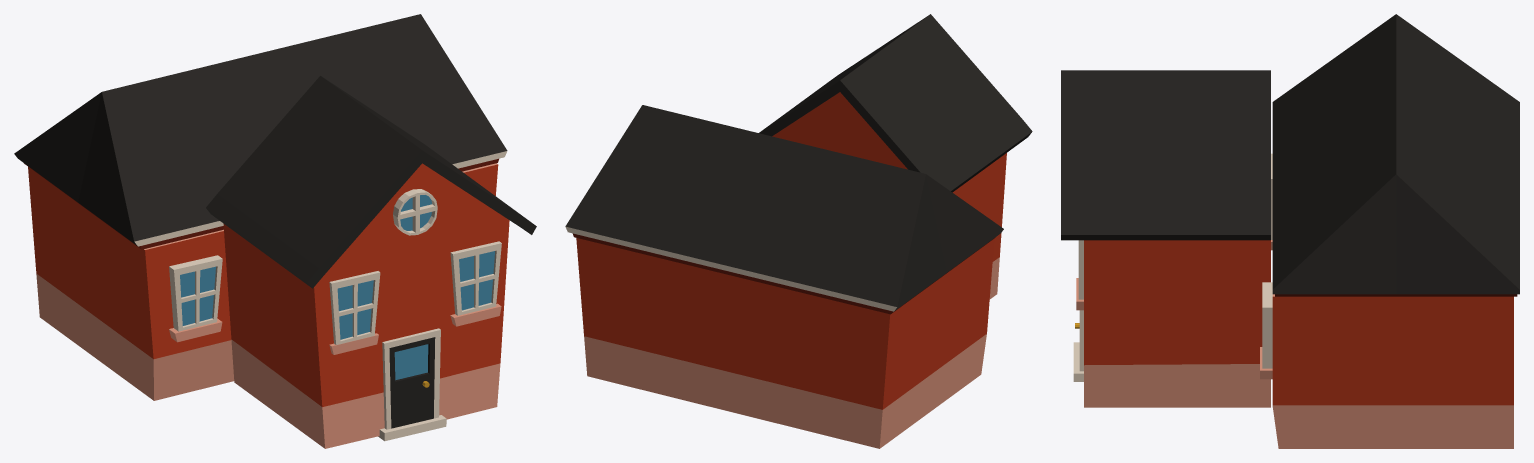
File: house_006.glb
3 renders of one model, left to right at view 1: azimuth 30°, elevation 25°; view 2: azimuth 150°, elevation 25°; view 3: azimuth 270°, elevation 25°, orthographic. The views are drawn at different scales.
Visible parts, largest first — view 1: House_06; view 2: House_06; view 3: House_06.
Boxes of the visible parts, <box> form: House_06: <box>14,14,536,448</box>; House_06: <box>565,14,1032,448</box>; House_06: <box>1061,14,1519,448</box>.
Bounding box in the file's own units: 3.77 × 2.78 × 3.9.
